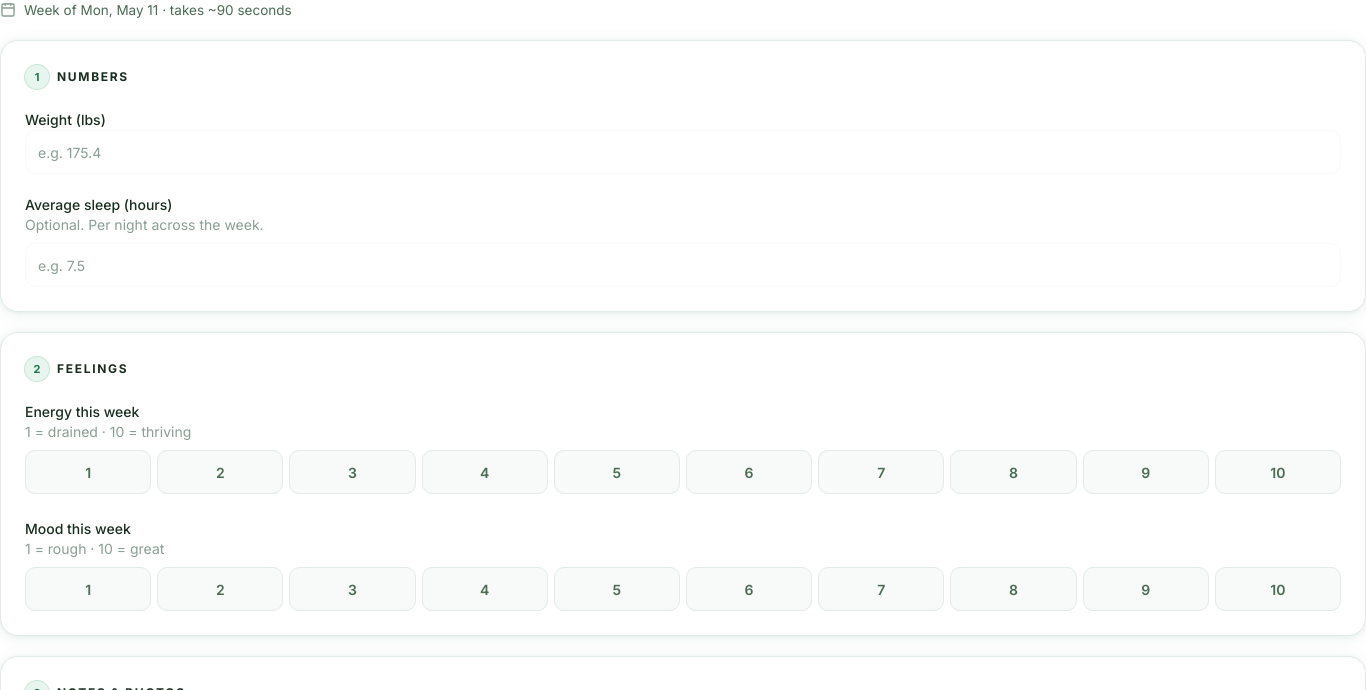
Test case: <CheckInForm /> › on 409 duplicate week, pins the backend message to the weight field
The image size is (1366, 690).
In the number field labelled "Weight (lbs)": (683, 152) [25,130,1341,174], type "180"
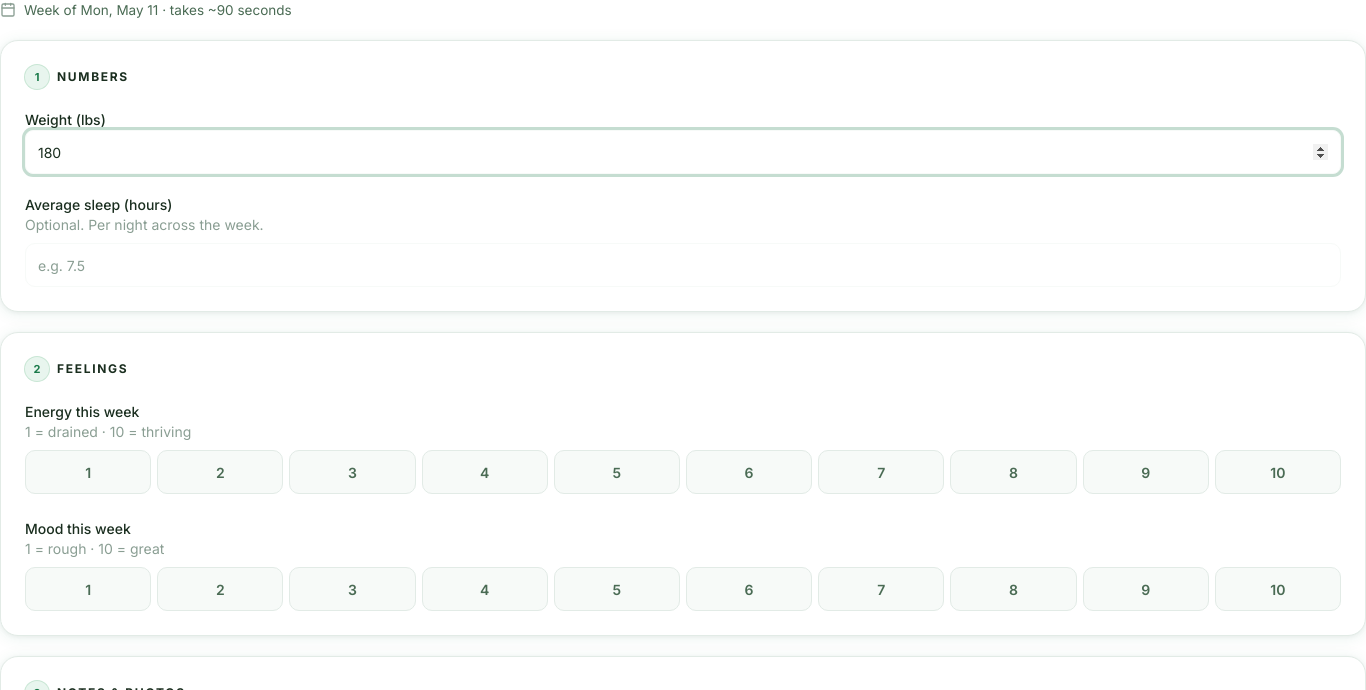
Click the radio button named "7 of 10": (881, 472) [818,450,944,494]
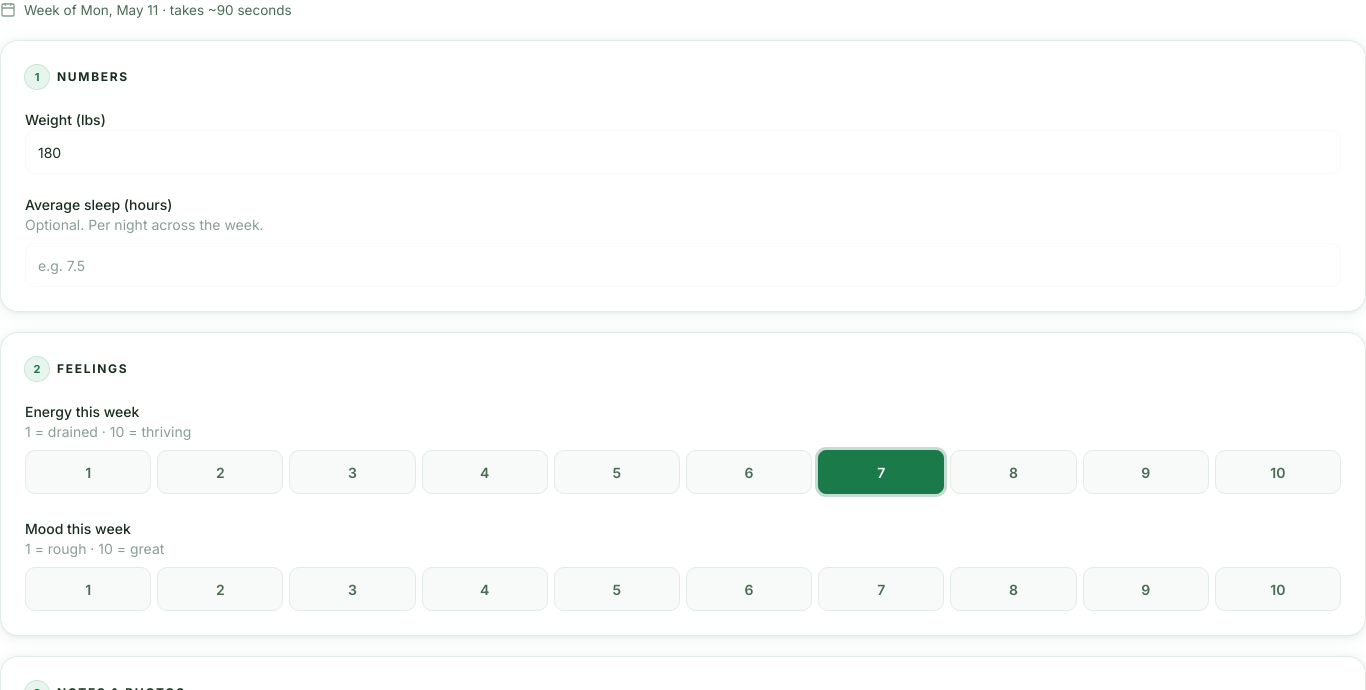
Click the radio button named "8 of 10": (1014, 589) [950,567,1077,611]
(page scrolled)
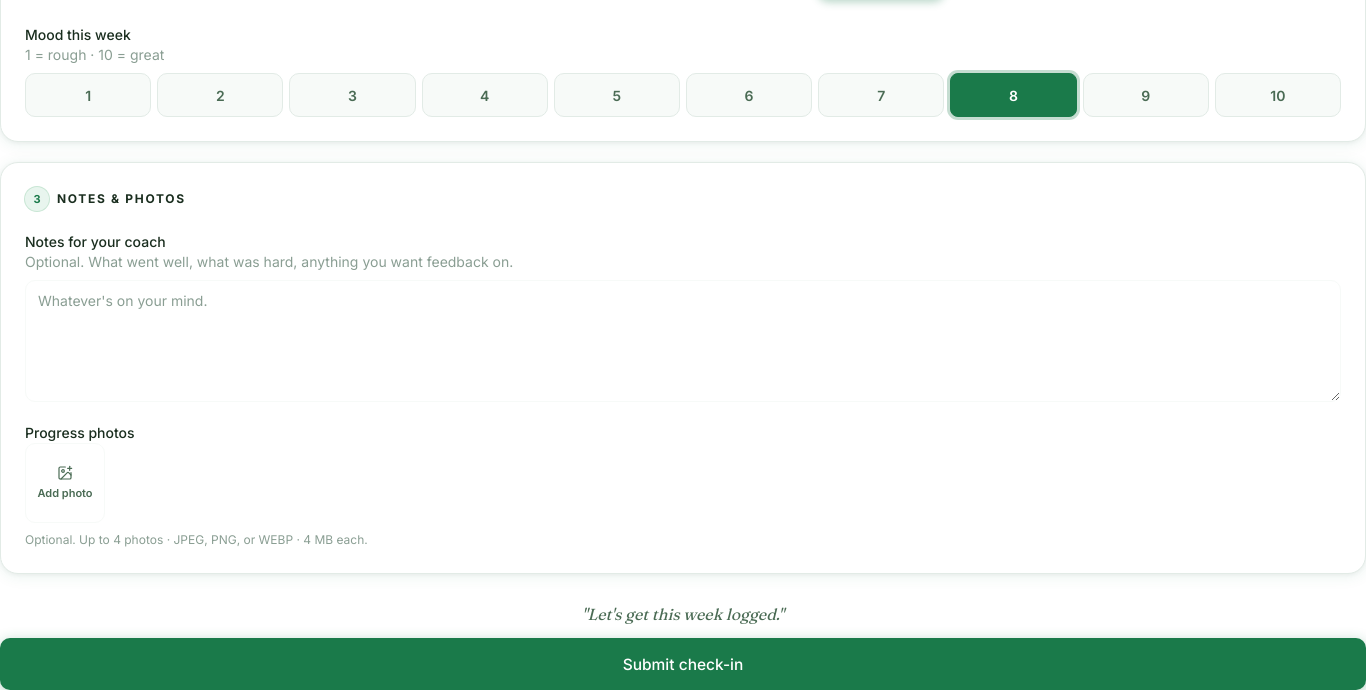
Click the button "Submit check-in": (683, 664) [0,638,1365,689]
(page scrolled)
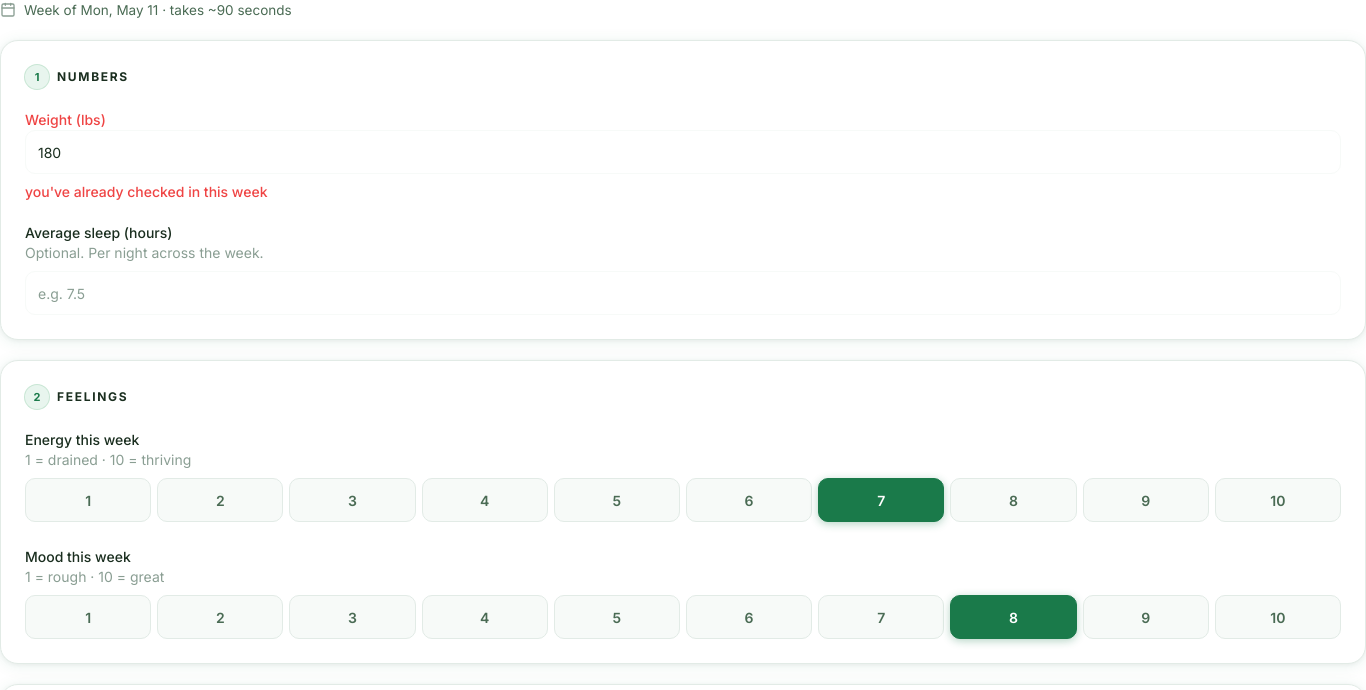
Expected: the text "you've already checked in this week" is shown, [25,183,268,200]
